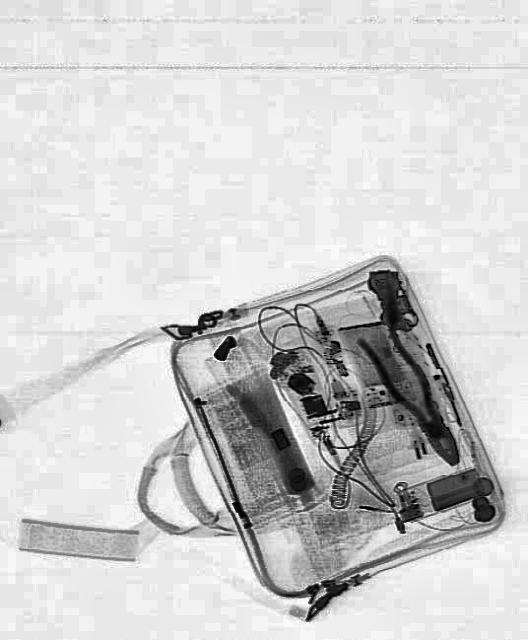Pliers: (356, 312, 474, 478)
